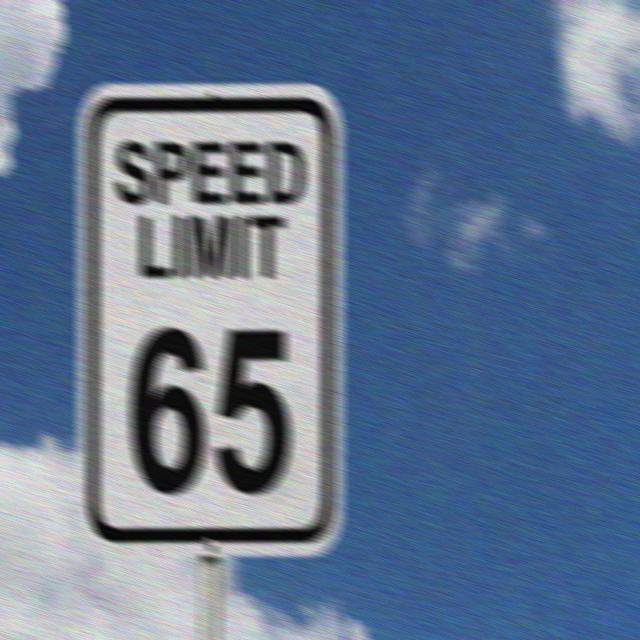speedLimit65: (74, 77, 349, 559)
